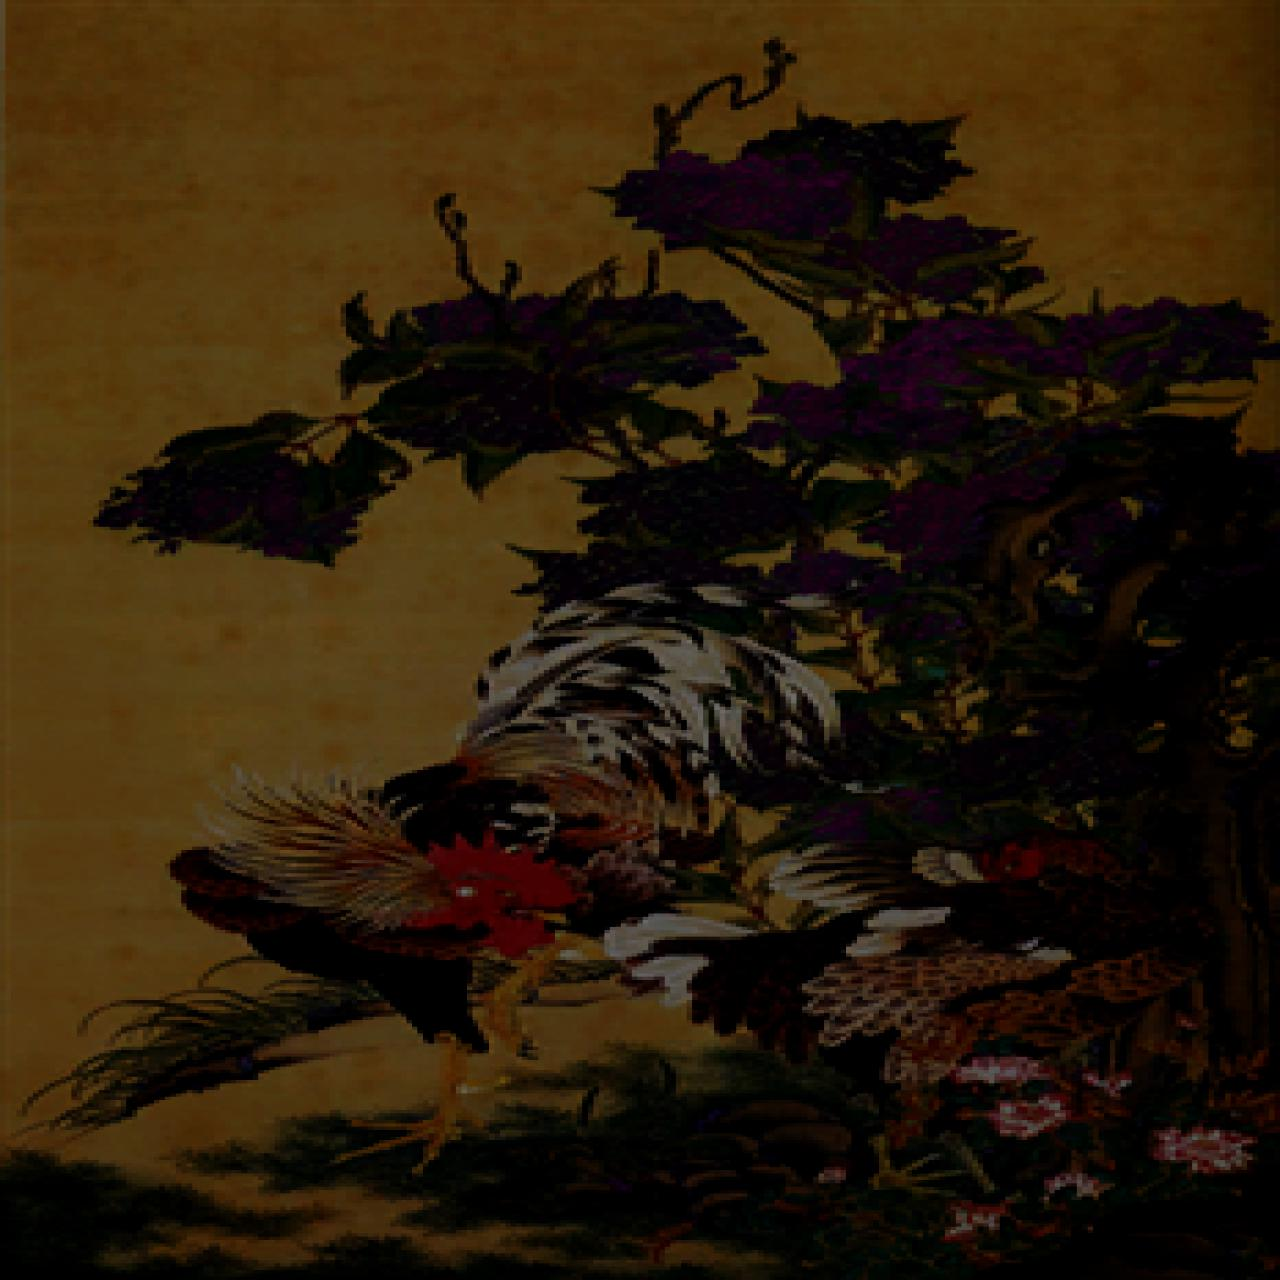AjisaisoukeizuFake: (1, 1, 1276, 1278)
